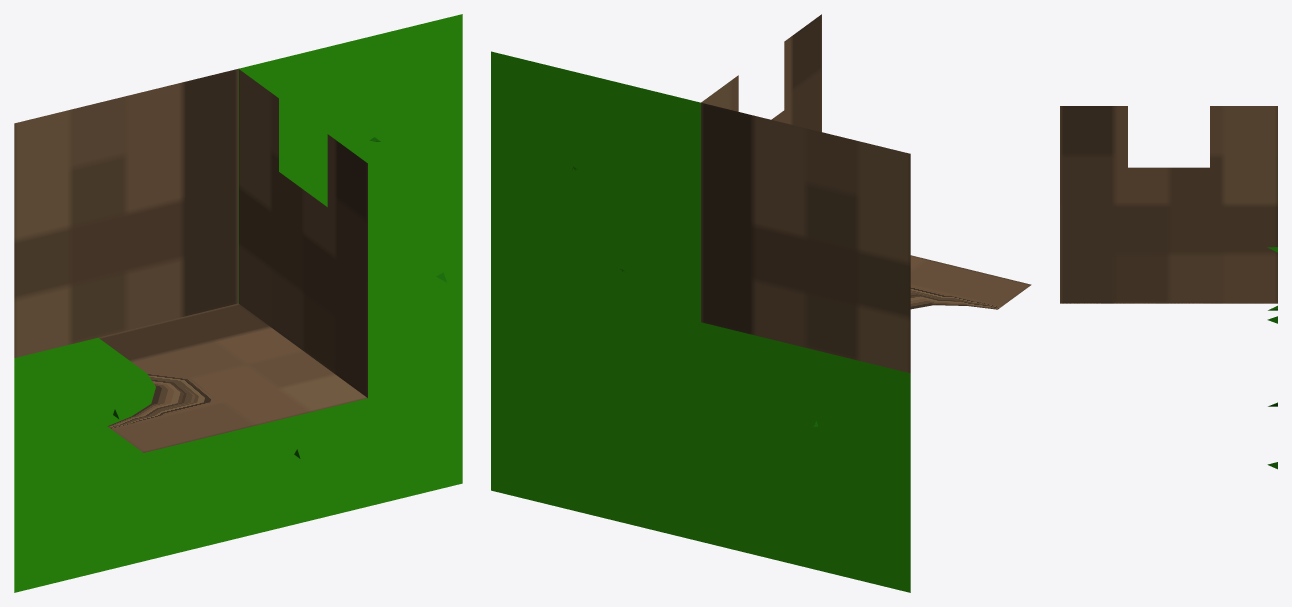
Rendered from house2.glb.
3 renders of one model, left to right at view 1: azimuth 30°, elevation 25°; view 2: azimuth 150°, elevation 25°; view 3: azimuth 270°, elevation 25°, orthographic. The views are drawn at different scales.
Parts seen in each view (by area): view 1: Plane, Cube.003, Cube.006; view 2: Plane, Cube.003, Cube.006; view 3: Cube.006.
Part boxes in pixels (x1,y1,x2,y2): Plane: [14, 14, 462, 592]; Cube.003: [14, 69, 238, 357]; Cube.006: [98, 69, 367, 452]; Plane: [491, 51, 910, 592]; Cube.003: [701, 102, 910, 373]; Cube.006: [701, 14, 1031, 309]; Cube.006: [1060, 106, 1277, 303].
Size of the model in its own units: 2 by 2 by 1.
Materials: 5 (2 with a texture image).
